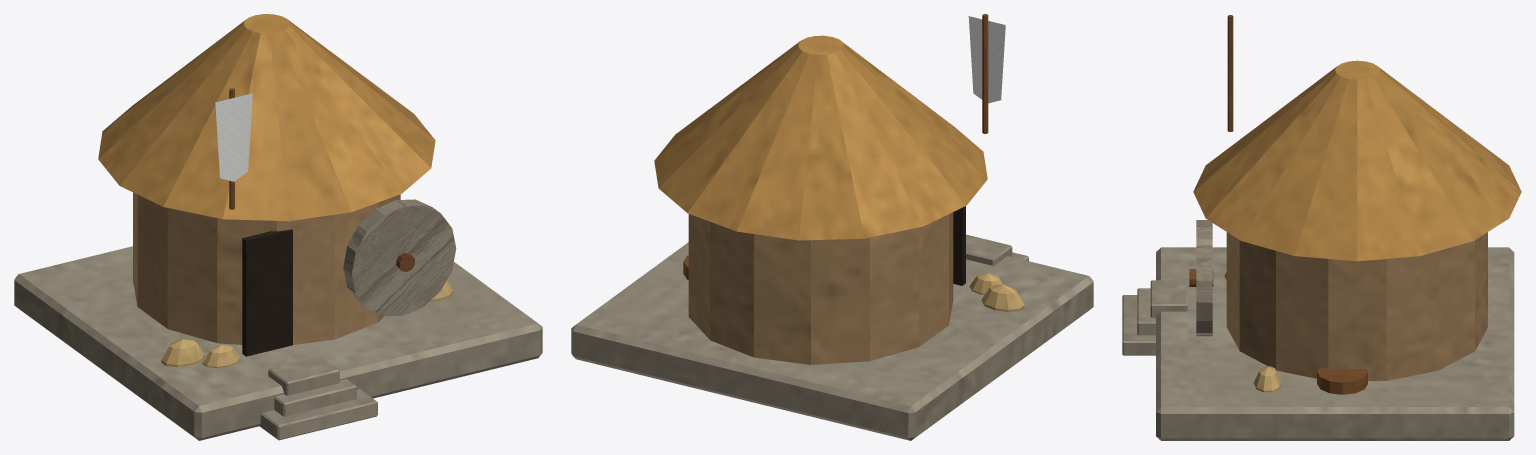
File: edificio-farm-e0-Dj_PifKB.glb
3 views of the same model, side by side, from view 1: azimuth 30°, elevation 25°; view 2: azimuth 150°, elevation 25°; view 3: azimuth 270°, elevation 25° (orthographic). The views are drawn at different scales.
Visible parts, largest first — view 1: molino_e0_envolvente, rotor_molino, molino_e0_team_color; view 2: molino_e0_envolvente, molino_e0_team_color; view 3: molino_e0_envolvente, rotor_molino.
Part boxes in pixels (<box>): molino_e0_envolvente: <box>14,14,542,440</box>; rotor_molino: <box>343,199,456,316</box>; molino_e0_team_color: <box>215,93,252,181</box>; molino_e0_envolvente: <box>571,14,1093,440</box>; molino_e0_team_color: <box>968,16,1005,103</box>; molino_e0_envolvente: <box>1122,15,1521,440</box>; rotor_molino: <box>1189,220,1213,336</box>.
Bounding box in the file's own units: 52 × 44 × 53.5.
Materials: 3 (3 with a texture image).
